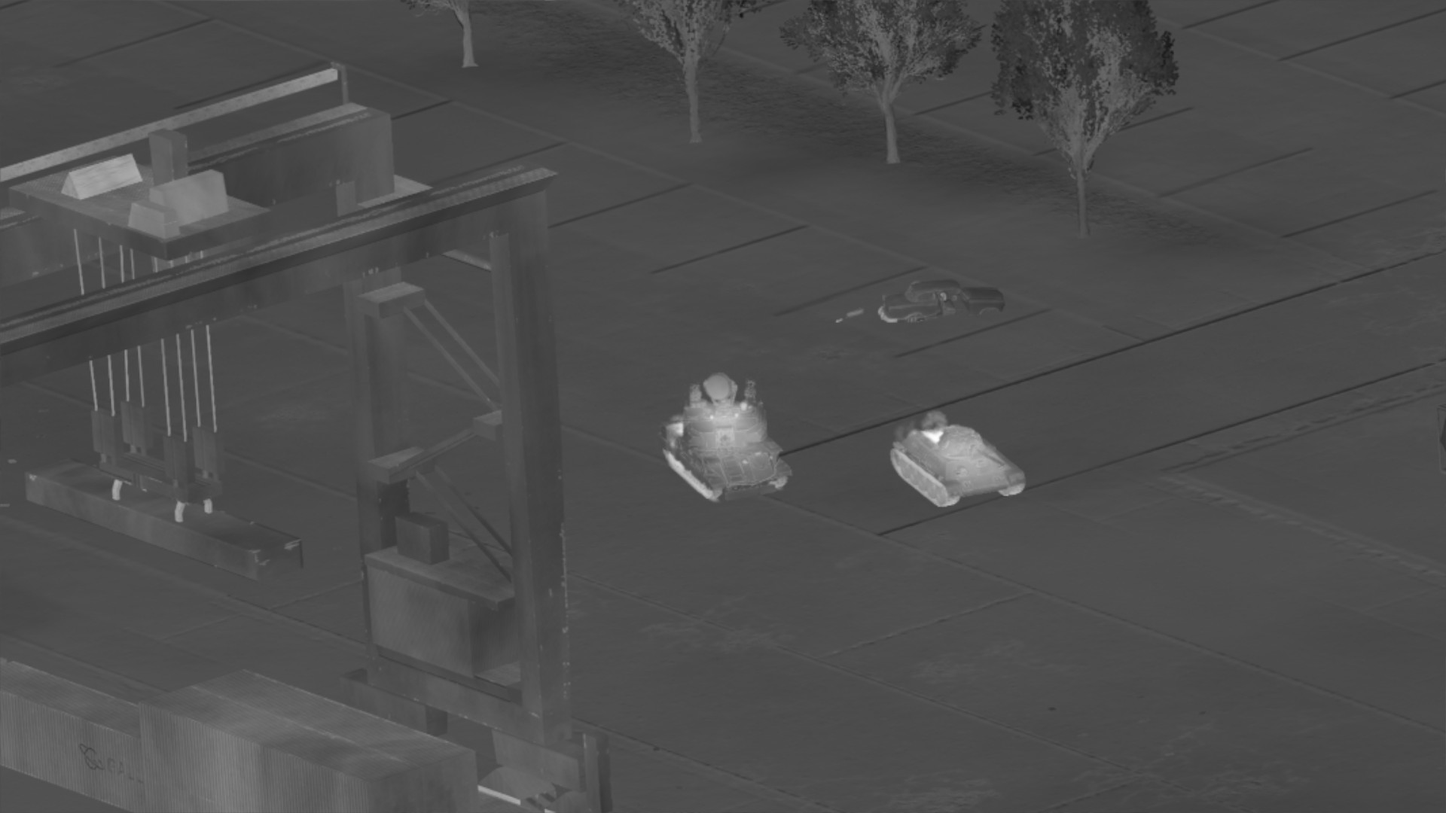spaa_zsu-23: (659, 373, 792, 503)
